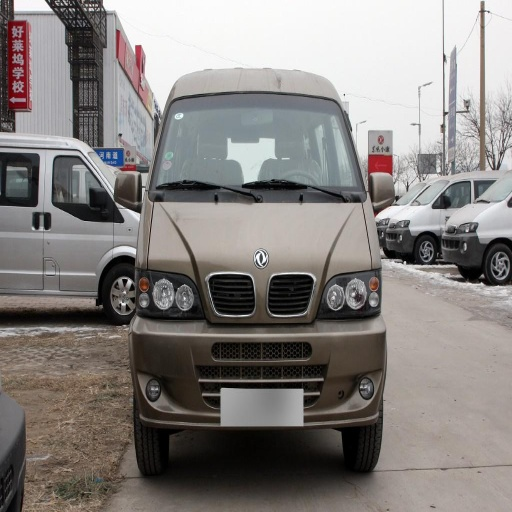front_bumper: (135, 272, 382, 428)
front_glass: (157, 93, 361, 200)
front_left_door: (4, 252, 42, 289)
front_left_light: (322, 270, 381, 315)
front_right_door: (70, 161, 114, 288)
front_right_light: (145, 277, 196, 318)
hood: (154, 204, 372, 283)
trunk: (2, 198, 93, 261)
